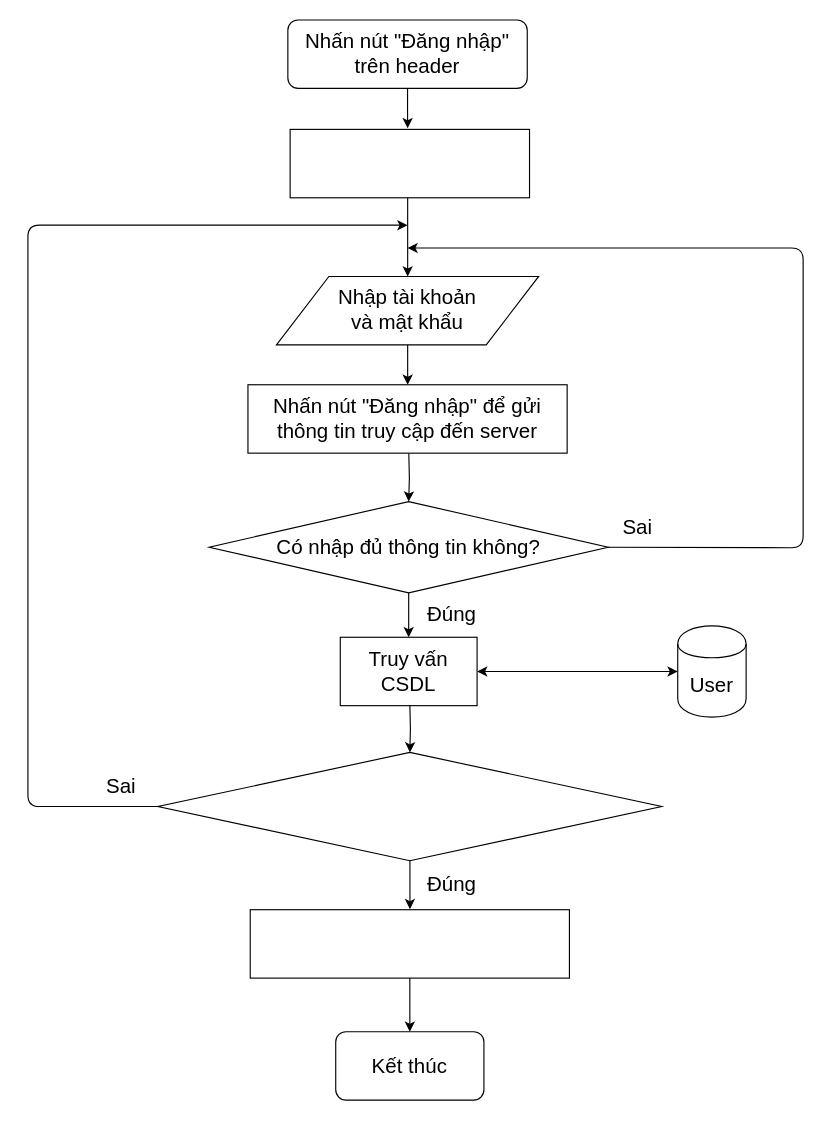
The diagram is 832 pixels wide and 1121 high, and some of its shapes have lost their labels. Here are the shapes that lost their labels. From the top down, the box of each, then its label:
(289, 128, 530, 198): Mở popup form nhập thông tin đăng nhập
(157, 751, 662, 861): Tên đăng nhập và mật khẩu có chính xác không?
(249, 909, 569, 978): Lưu tên đăng nhập vào Session
